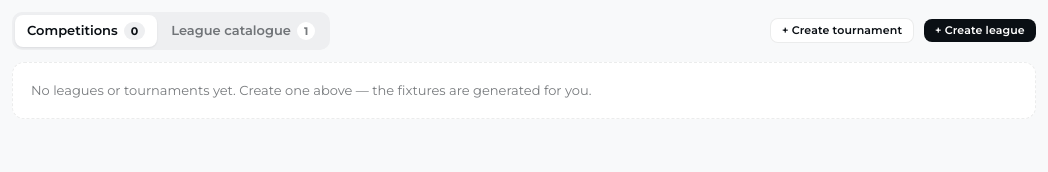
Test: the competitions table › shows the league catalogue beside the competitions, not as a separate page
The width and height of the screenshot is (1048, 172).
Check: the text "No leagues or tournaments yet" is shown, box [31, 82, 591, 98]
Click the tab "League catalogue 1".
click(243, 31)  # box [159, 15, 327, 46]
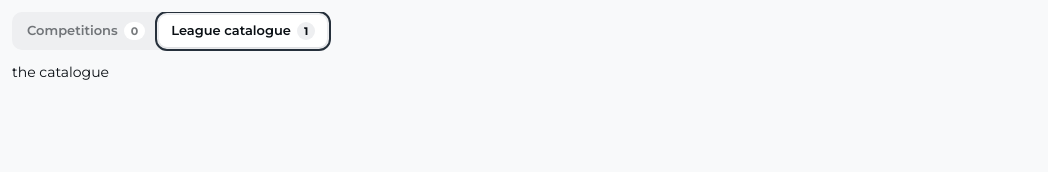
Check: the text "the catalogue" is shown, box [12, 62, 109, 80]
Check: the button "+ Create league" is gone
